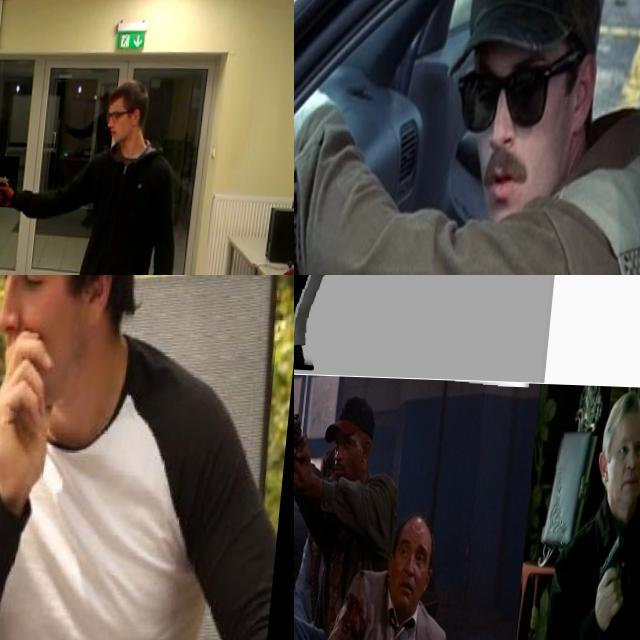-: (0, 500, 64, 600)
gun-knife-thesis - v11 Yolov5 augmented: (294, 275, 575, 439), (603, 520, 639, 606), (294, 407, 323, 492), (0, 152, 26, 204)
